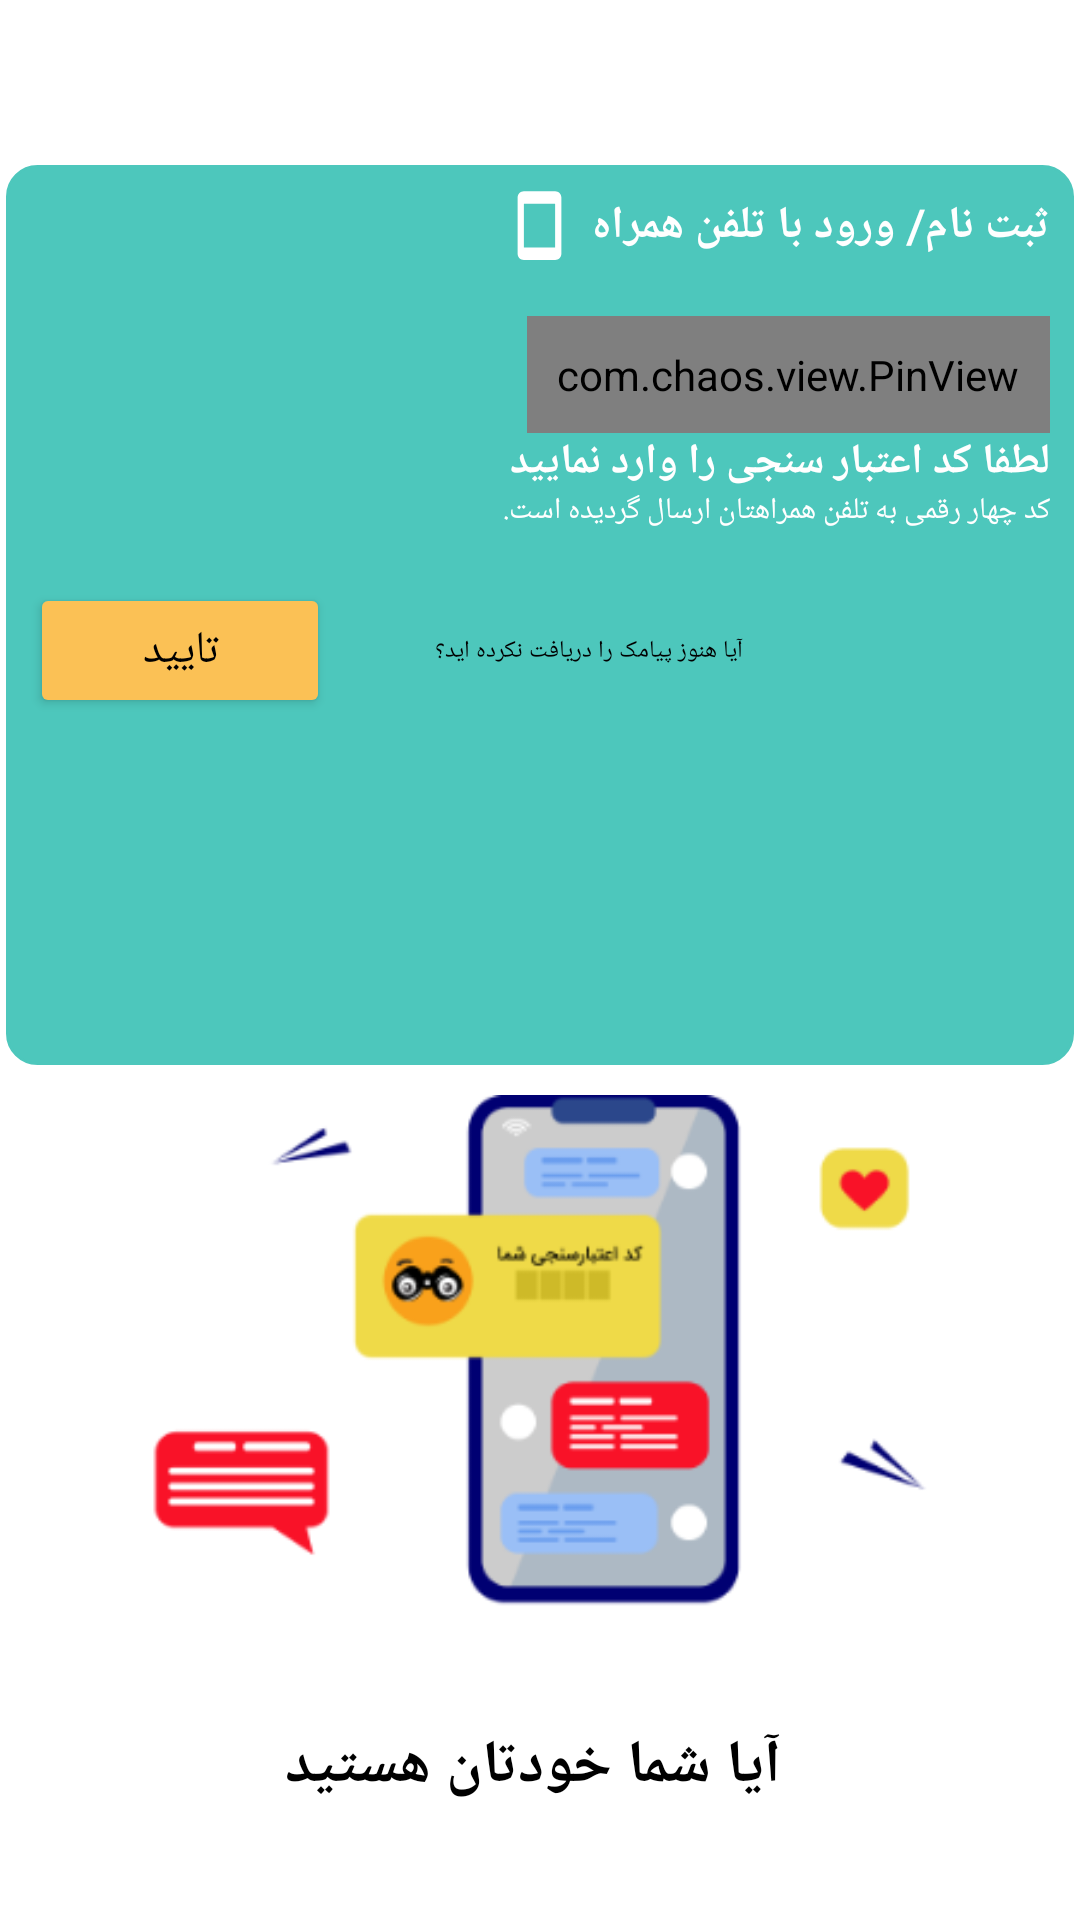

Named icons in this screenshot (1080*1920) and their centers, [x,y]:
phone: [539,225]
